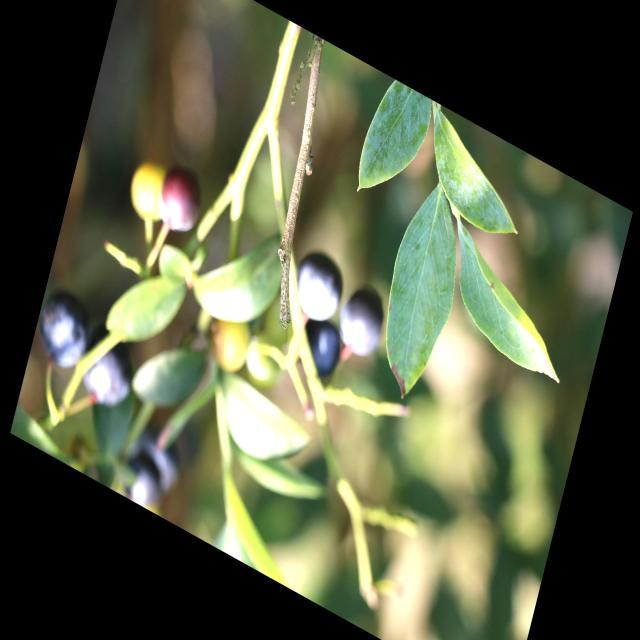blueberry: (71, 319, 144, 426), (30, 276, 100, 382), (280, 235, 352, 338), (120, 410, 192, 506), (328, 269, 394, 371), (288, 300, 349, 392), (109, 435, 172, 516)
blueberry-halfripe: (152, 160, 208, 243)
blueberry-unripe: (205, 304, 256, 378), (125, 156, 172, 229)
